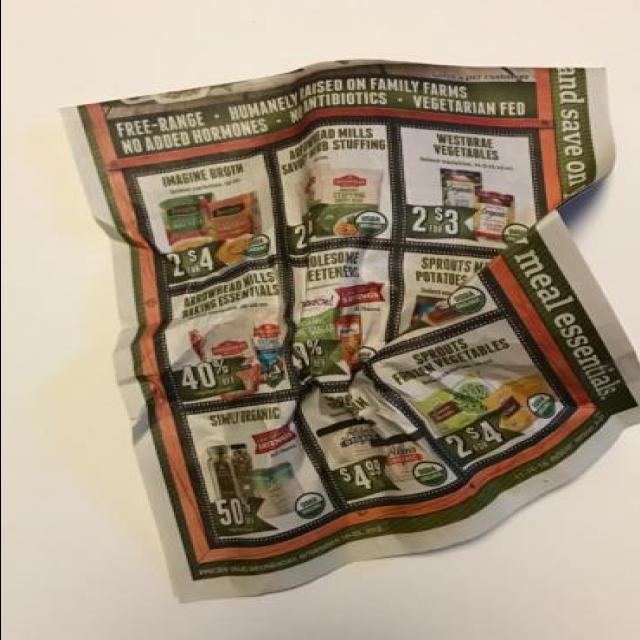kertas: (59, 58, 640, 604)
